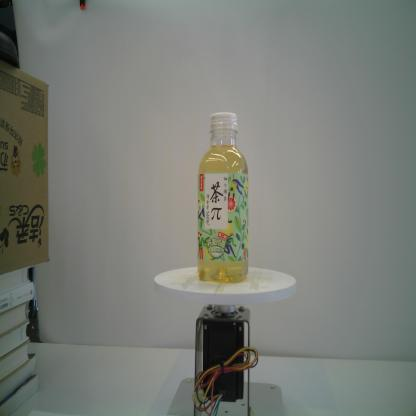Drink: (196, 110, 250, 284)
